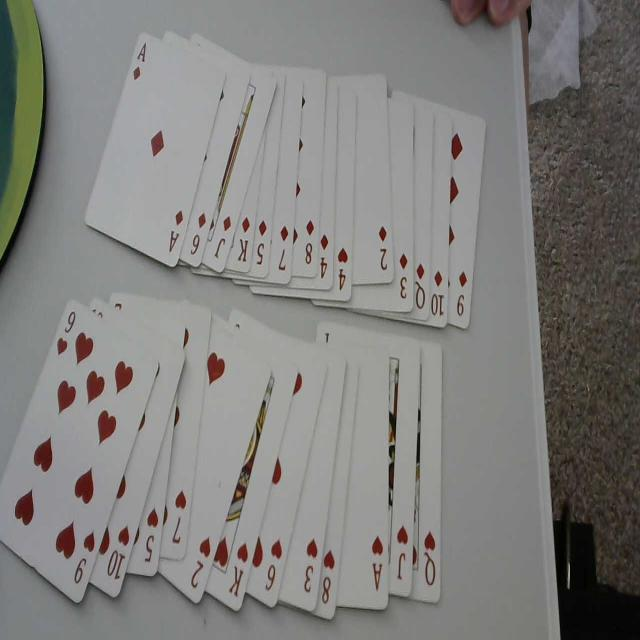10D: (431, 270, 445, 318)
10H: (106, 525, 132, 583), (143, 507, 159, 565)
2D: (379, 223, 389, 275)
2H: (191, 533, 211, 591)
3D: (398, 250, 409, 303)
3H: (303, 538, 319, 592)
4D: (319, 232, 329, 277)
4H: (336, 244, 348, 292)
5D: (256, 218, 268, 266)
6D: (190, 211, 208, 255)
6H: (264, 536, 284, 592)
7D: (277, 222, 289, 274)
7H: (171, 486, 188, 545)
8D: (303, 218, 315, 268)
8H: (321, 548, 335, 604)
9D: (456, 267, 467, 317)
9H: (74, 527, 95, 587), (55, 309, 77, 359)
AD: (168, 209, 184, 255), (132, 39, 148, 84)
AH: (370, 532, 384, 593)
JD: (212, 216, 232, 260)
JH: (396, 525, 410, 583)
KD: (237, 215, 251, 263)
KH: (228, 538, 248, 594)
QD: (416, 260, 426, 313)
QH: (423, 530, 438, 588)
